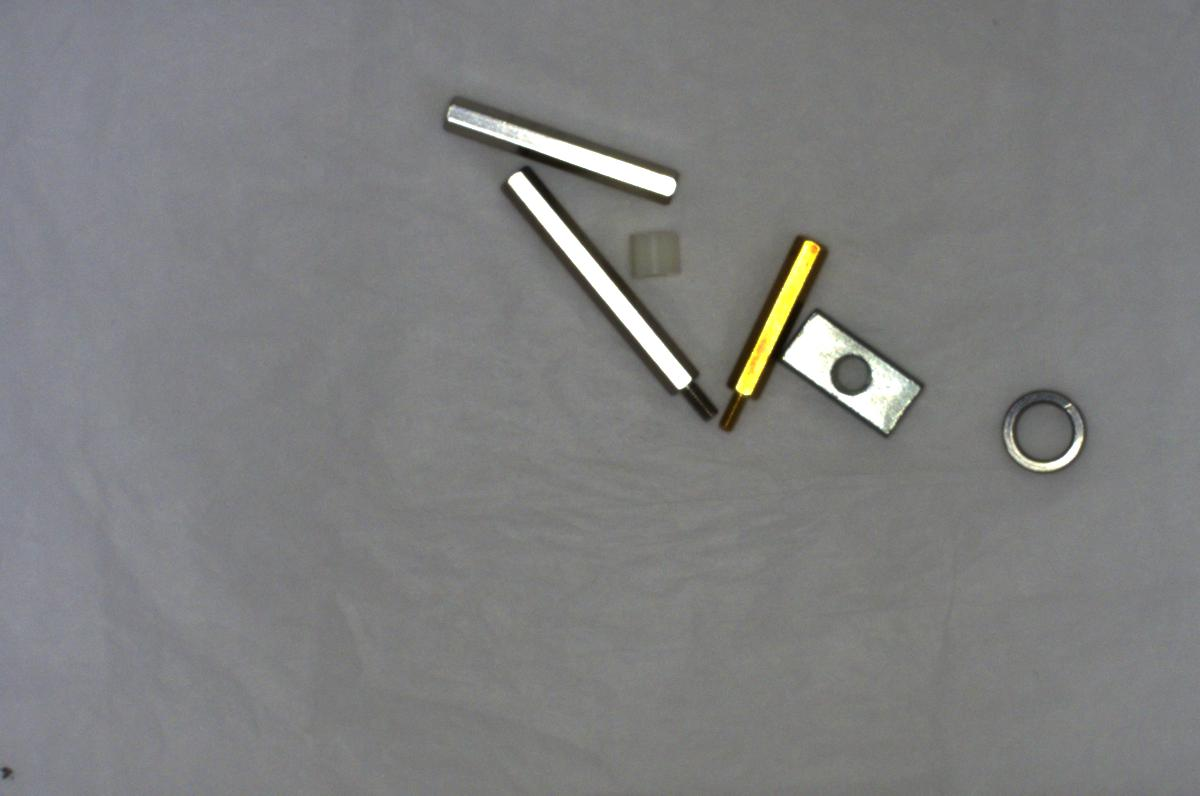Double hexagonal column: (432, 85, 684, 198)
Hexagon pillar: (716, 227, 824, 424)
Hexagonal steel column: (496, 167, 721, 422)
Plastic cushion pillar: (625, 221, 689, 282)
Rectangular nut: (773, 305, 926, 435)
Spring washer: (991, 376, 1100, 485)
